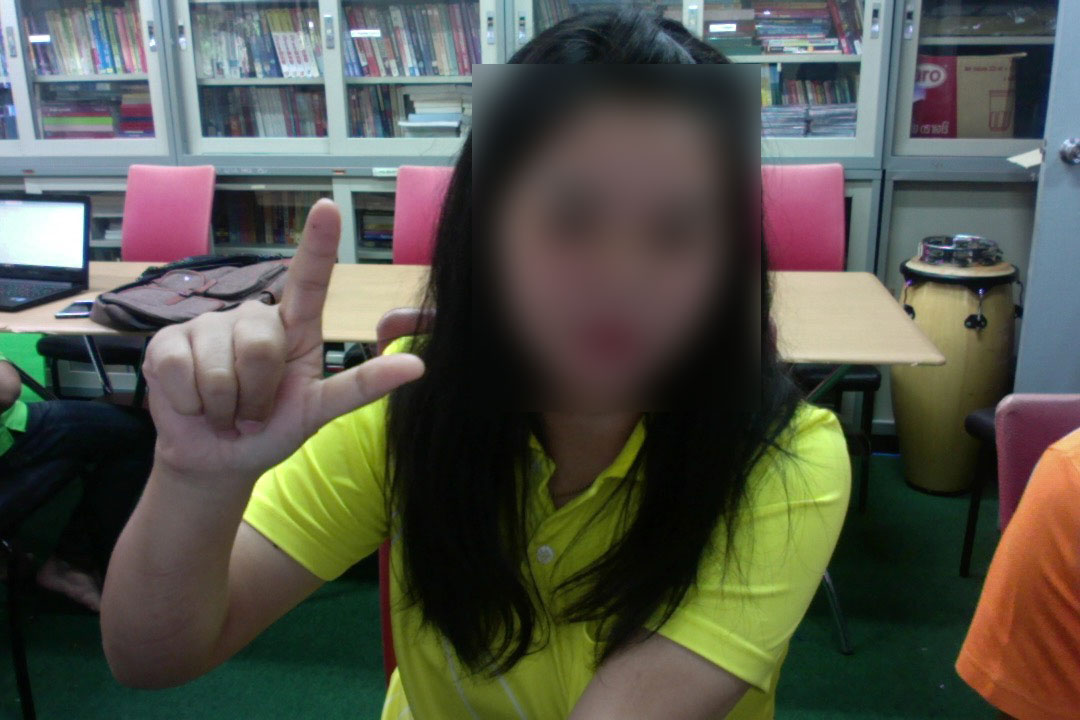lor: (124, 190, 440, 489)
